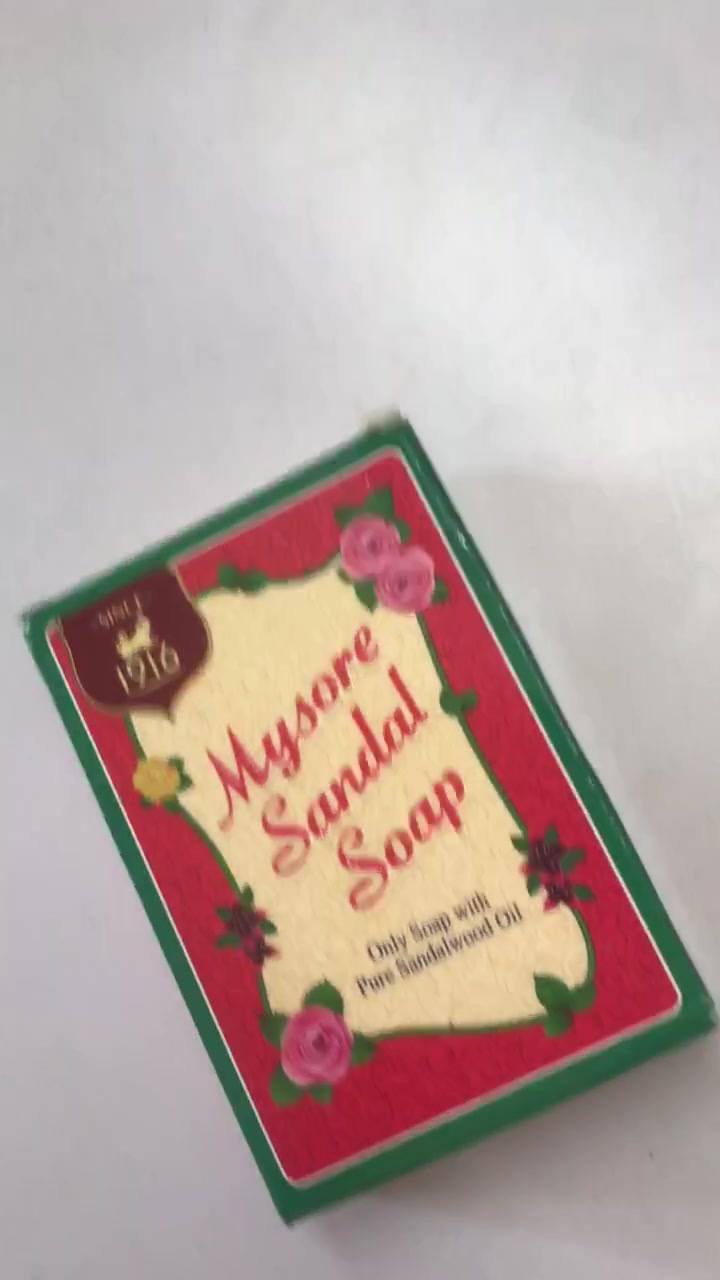mysore sandal soap: (13, 424, 716, 1224)
